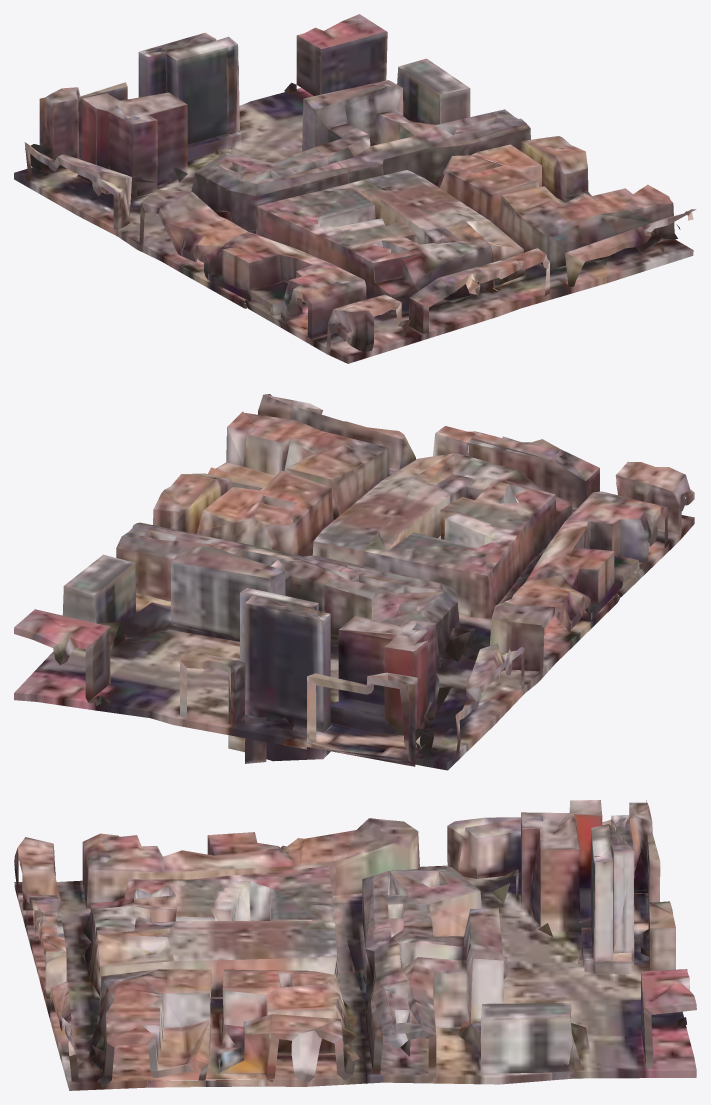
3 renders of one model, top to bottom at view 1: azimuth 30°, elevation 25°; view 2: azimuth 150°, elevation 25°; view 3: azimuth 270°, elevation 25°, orthographic. The views are drawn at different scales.
Parts seen in each view (by area): view 1: Mesh_0; view 2: Mesh_0; view 3: Mesh_0.
Part boxes in pixels (left/top/right/bottom): Mesh_0: left=14, top=14, right=696, bottom=363; Mesh_0: left=14, top=394, right=694, bottom=770; Mesh_0: left=14, top=800, right=696, bottom=1090.
Size of the model in its own units: 269 by 82.04 by 330.
1 material, 1 textured.
